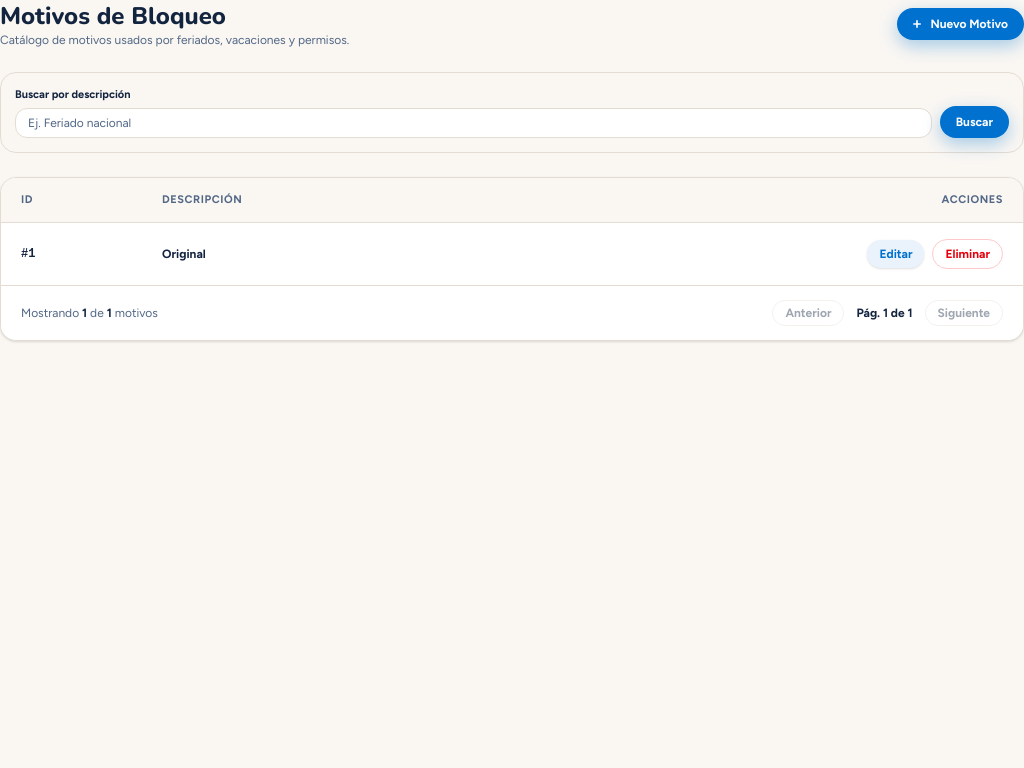
Test: BlockReasonListComponent › edits a block reason and reloads the list
Step 1. Click the button "Editar" → [896, 254], box x1=867 y1=240 x2=924 y2=268
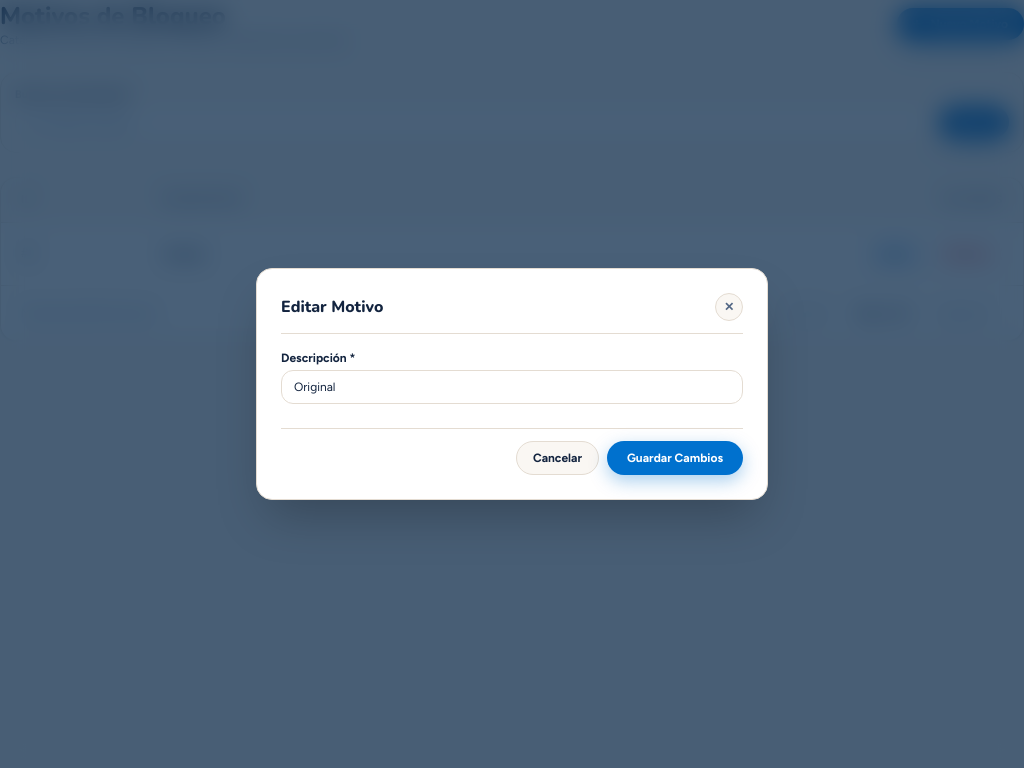
Expected: the field with id "description" holds "Original"
Step 2. Replace the text in the field with id "description" with "Actualizado" → [512, 387], box x1=281 y1=370 x2=743 y2=404
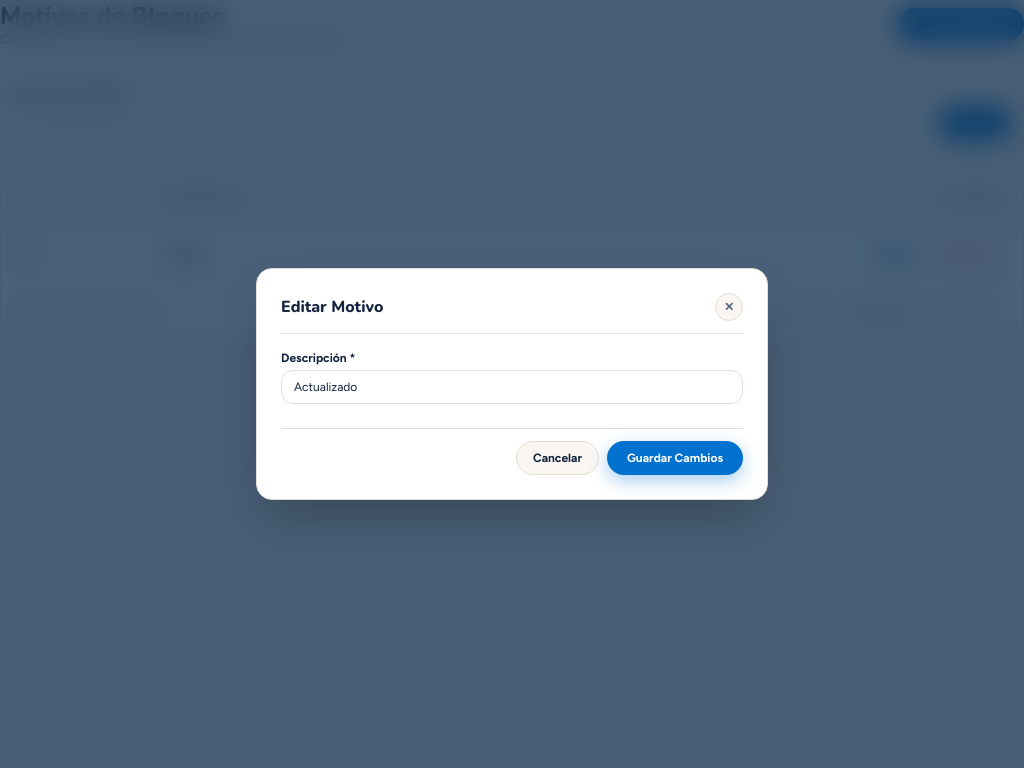
Step 3. Submit the form, box x1=281 y1=350 x2=743 y2=475
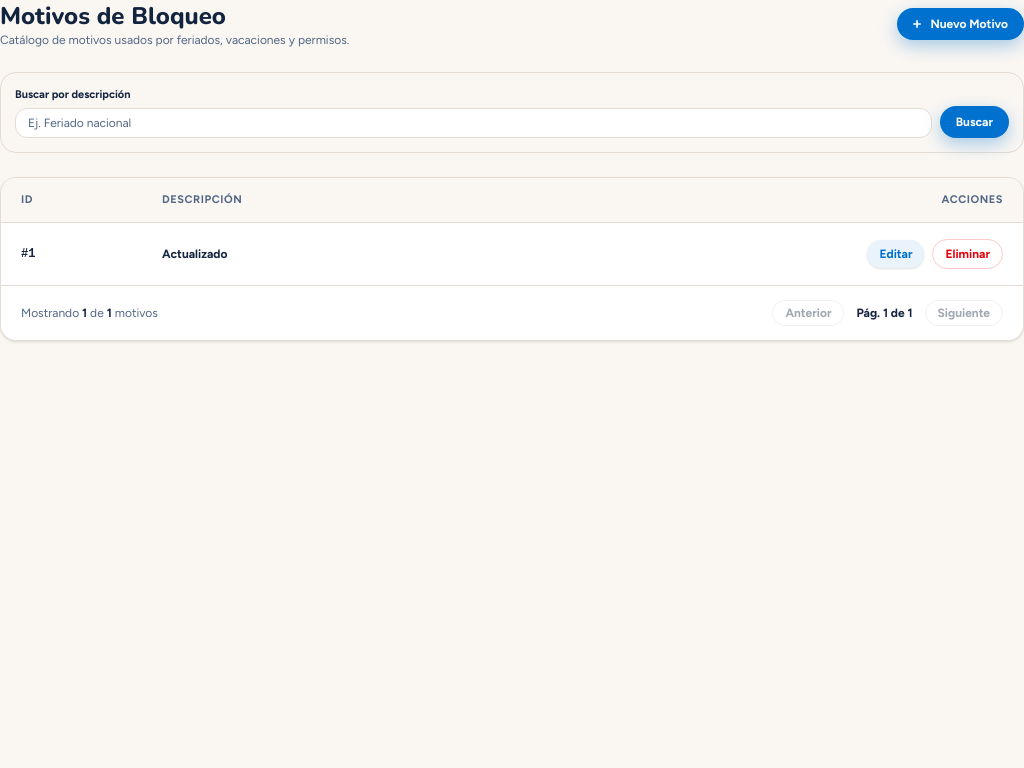
Expected: the text "Actualizado" is shown, x1=150 y1=222 x2=485 y2=285
